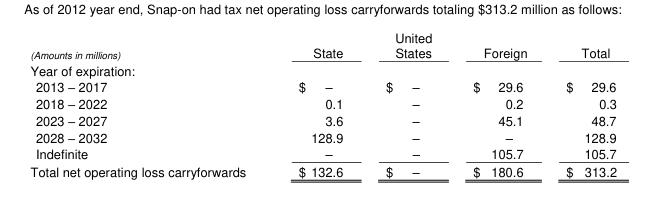table: (29, 28, 616, 179)
table column: (29, 28, 271, 179), (451, 28, 545, 179), (271, 28, 363, 179), (363, 28, 451, 179), (545, 28, 616, 179)
table column header: (29, 28, 616, 61)
table projected row header: (29, 61, 616, 78)
table row: (29, 28, 616, 61), (29, 144, 616, 162), (29, 61, 616, 78), (29, 94, 616, 111), (29, 111, 616, 128), (29, 162, 616, 179), (29, 78, 616, 94), (29, 128, 616, 144)
